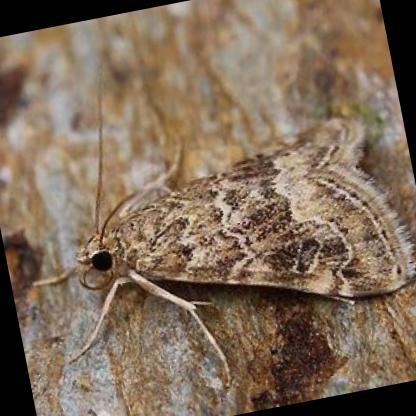Hellula undalis: (22, 54, 416, 393)
